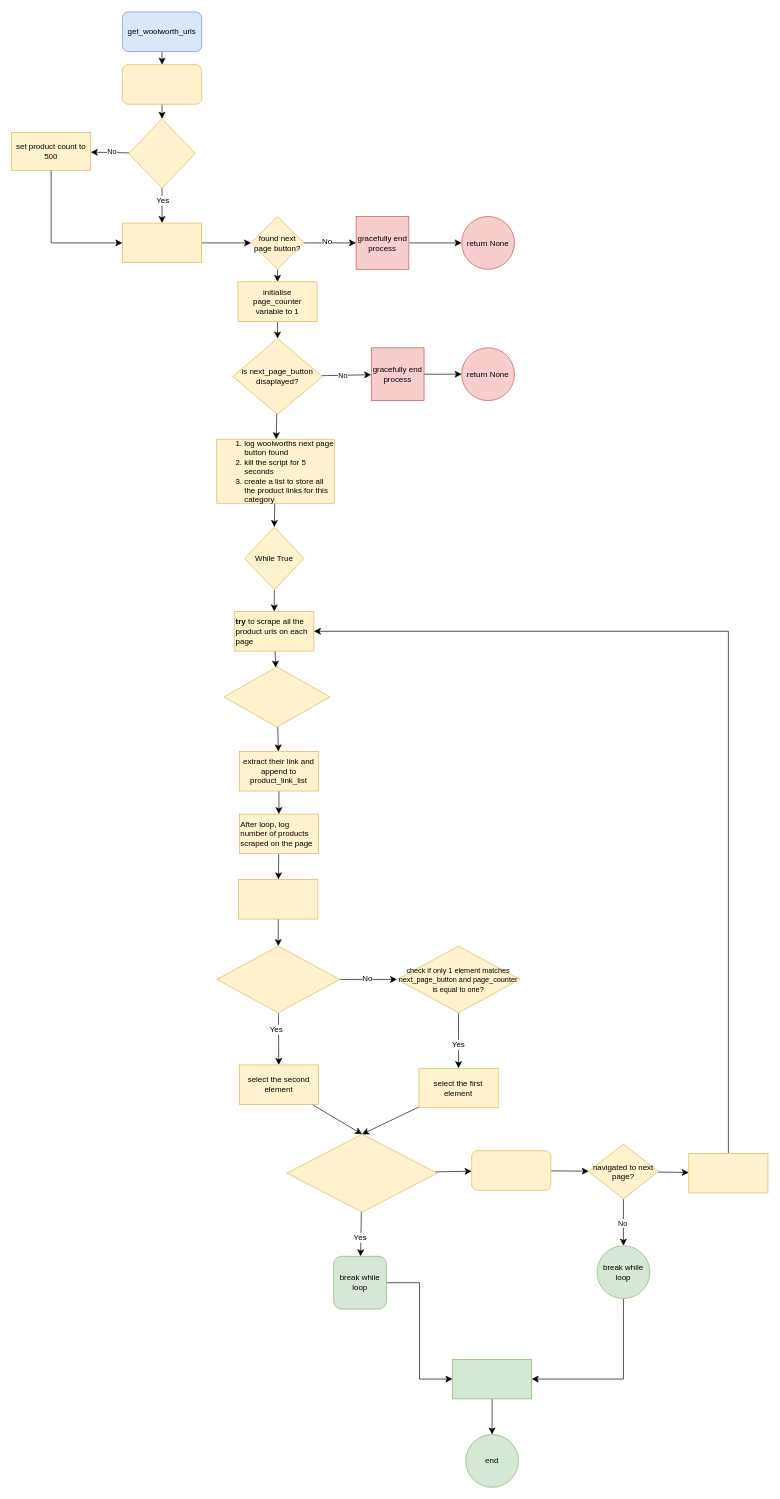
This 780x1499 diagram has some shape labels left out. The shapes that lost their labels are listed below. From the top down, each one's centre as x and y in pixels, then its label:
point (162, 84): find the number of results in this category page
point (161, 153): Able to extract product count?
point (162, 242): try to find next page button
point (276, 696): found all product anchor tags on the page?
point (278, 899): Find the next_page_button again
point (278, 979): check if more than 1 element fit the next_page_button?
point (361, 1173): number of scraped urls greater than product count?
point (511, 1170): try to click on next_page
point (728, 1173): go next page
point (492, 1379): return product_link_list
